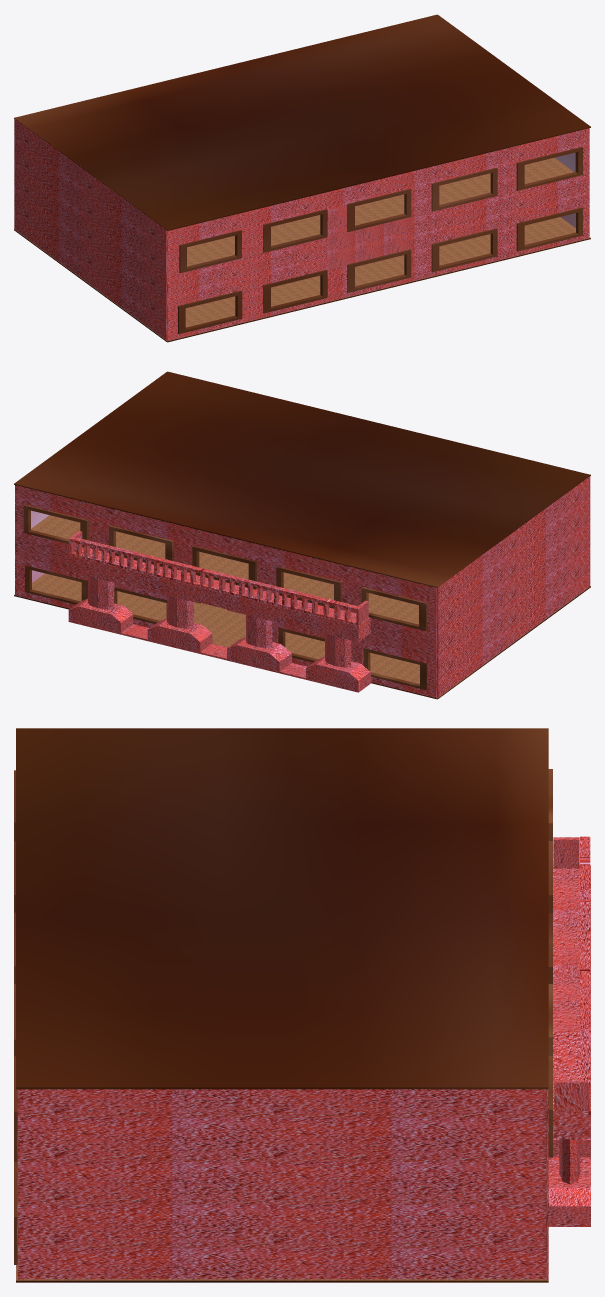
File: zona_restaurante.obj
The picture shows the model from 3 angles, top to bottom: view 1: azimuth 30°, elevation 25°; view 2: azimuth 150°, elevation 25°; view 3: azimuth 270°, elevation 25°; orthographic projection. The views are drawn at different scales.
Parts seen in each view (by area): view 1: FachadaRestaurante:FachadaRestaurante; view 2: FachadaRestaurante:FachadaRestaurante; view 3: FachadaRestaurante:FachadaRestaurante.
Boxes of the visible parts, left/top/right/bottom form: FachadaRestaurante:FachadaRestaurante: left=14, top=14, right=590, bottom=342; FachadaRestaurante:FachadaRestaurante: left=14, top=371, right=590, bottom=699; FachadaRestaurante:FachadaRestaurante: left=14, top=728, right=590, bottom=1282.
Bounding box in the file's own units: 24.13 × 6.15 × 16.38.
7 materials, 6 textured.
